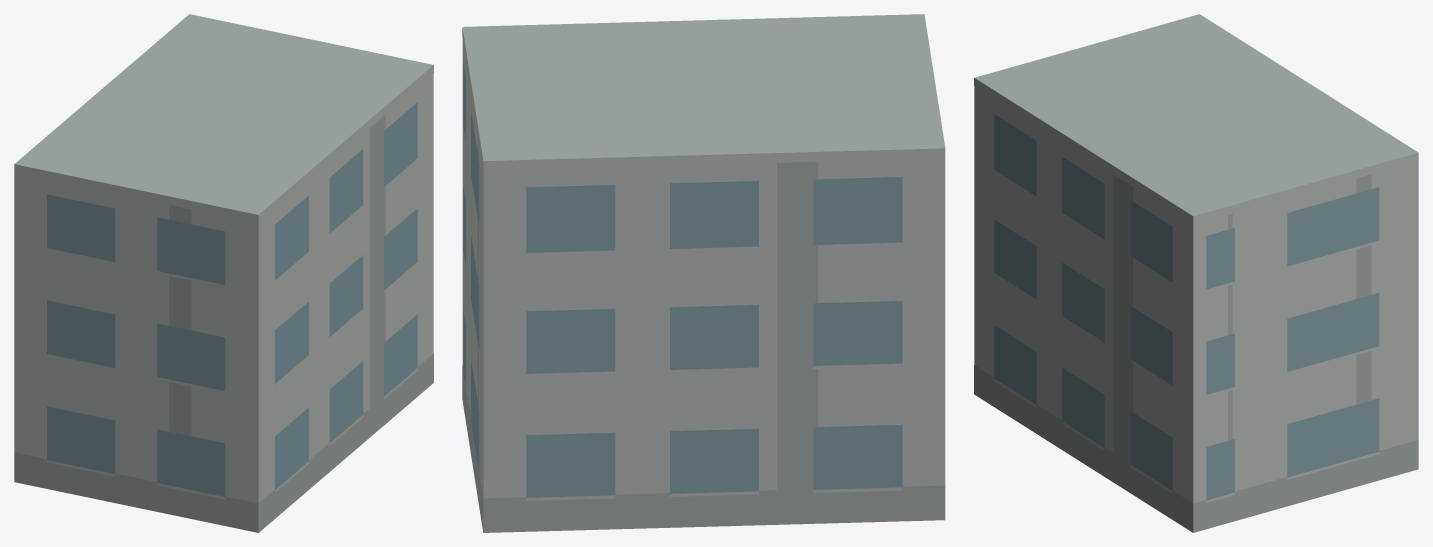
File: survey-upis-32849344.glb
3 views of the same model, side by side, from view 1: azimuth 30°, elevation 25°; view 2: azimuth 150°, elevation 25°; view 3: azimuth 270°, elevation 25° (orthographic). The views are drawn at different scales.
Visible parts, largest first — view 1: survey-upis-32849344.tmp; view 2: survey-upis-32849344.tmp; view 3: survey-upis-32849344.tmp.
Part boxes in pixels (box(x1,y1,x2,y2)): survey-upis-32849344.tmp: box(14, 14, 433, 532); survey-upis-32849344.tmp: box(462, 14, 945, 532); survey-upis-32849344.tmp: box(974, 14, 1418, 532).
Bounding box in the file's own units: 12.54 × 9.15 × 11.65.
